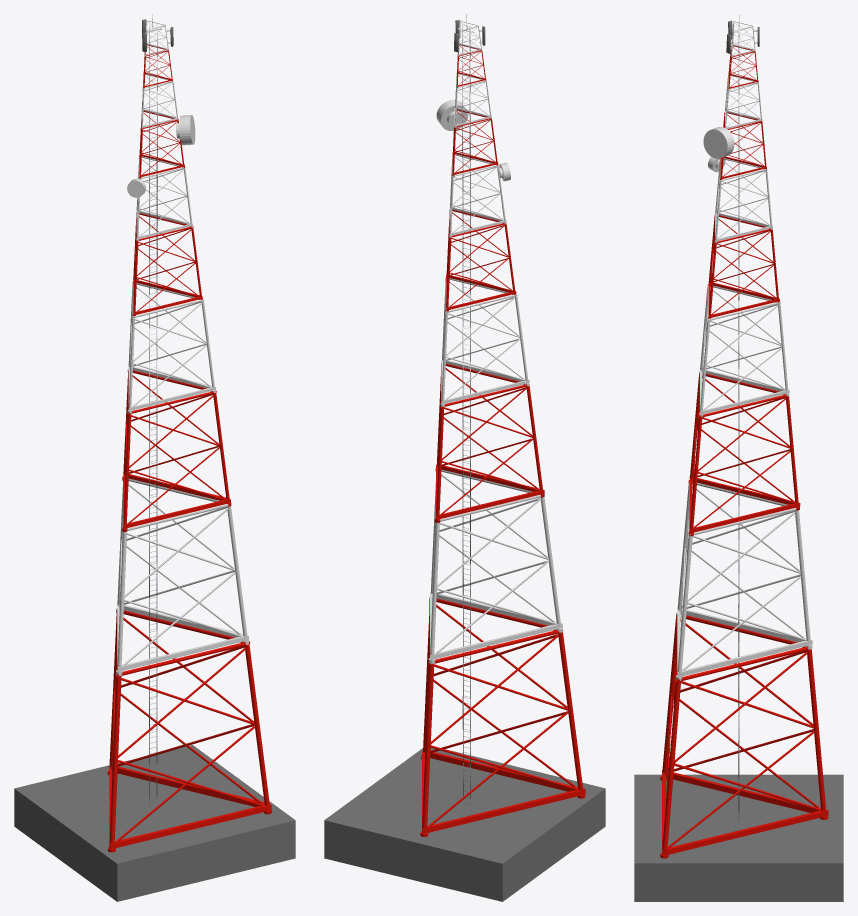
File: tower2.fbx
3 renders of one model, left to right at view 1: azimuth 30°, elevation 25°; view 2: azimuth 150°, elevation 25°; view 3: azimuth 270°, elevation 25°, orthographic.
Parts seen in each view (by area): view 1: Base.001; view 2: Base.001; view 3: Base.001.
Boxes of the visible parts, x1=… form: Base.001: x1=14, y1=14, x2=295, y2=901; Base.001: x1=324, y1=14, x2=605, y2=901; Base.001: x1=634, y1=14, x2=843, y2=901.
Bounding box in the file's own units: 1110 × 4926 × 1110.
